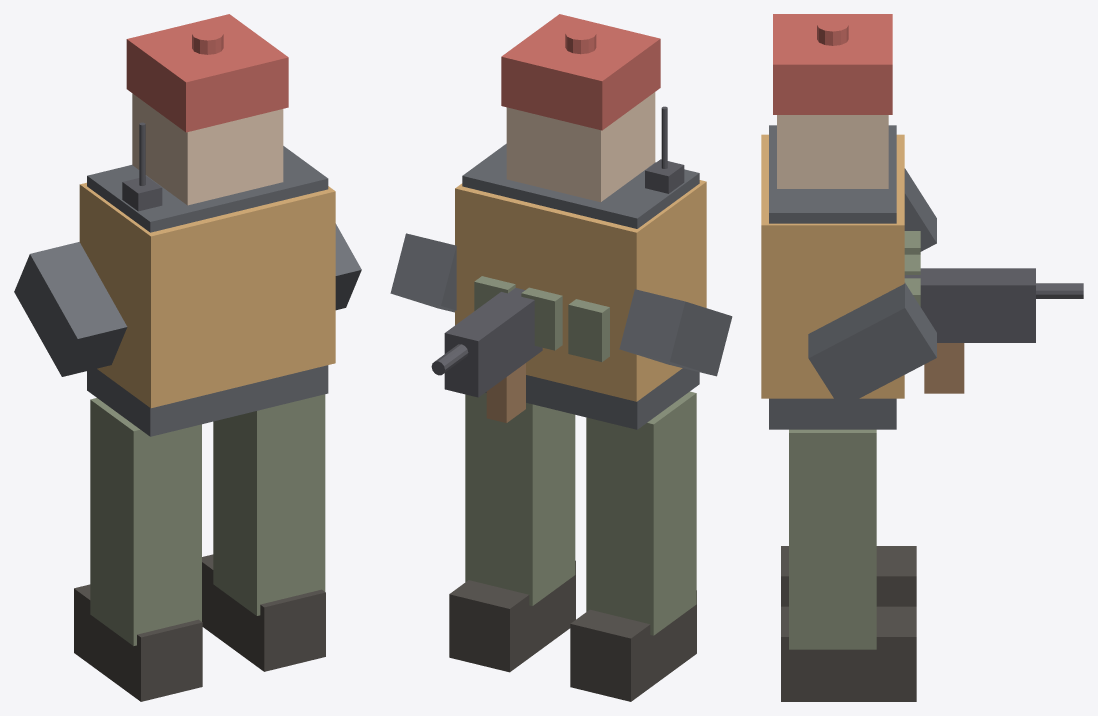
File: bot_rook.glb
The picture shows the model from 3 angles, left to right: view 1: azimuth 30°, elevation 25°; view 2: azimuth 150°, elevation 25°; view 3: azimuth 270°, elevation 25°; orthographic projection. The views are drawn at different scales.
Parts seen in each view (by area): view 1: Bot_Rook; view 2: Bot_Rook; view 3: Bot_Rook.
Boxes of the visible parts, x1=… form: Bot_Rook: x1=14, y1=14, x2=361, y2=701; Bot_Rook: x1=390, y1=14, x2=732, y2=701; Bot_Rook: x1=761, y1=14, x2=1083, y2=701.
Bounding box in the file's own units: 0.83 × 1.75 × 0.81.
